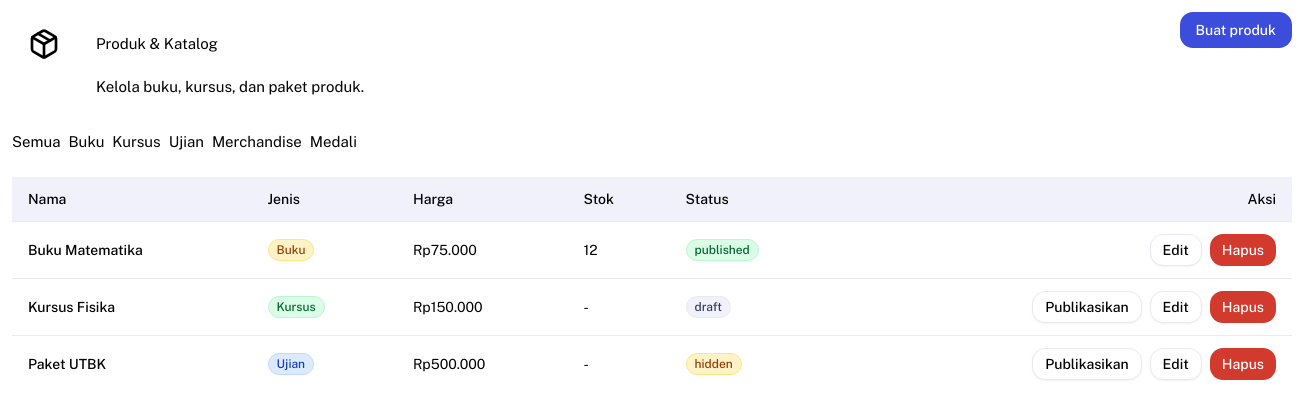
ProductsPage › filters rows by type chips
Expected: the text "Buku Matematika" is shown, [12,222,252,278]
Click the button "Kursus" at (137, 142), box [112,130,161,153]
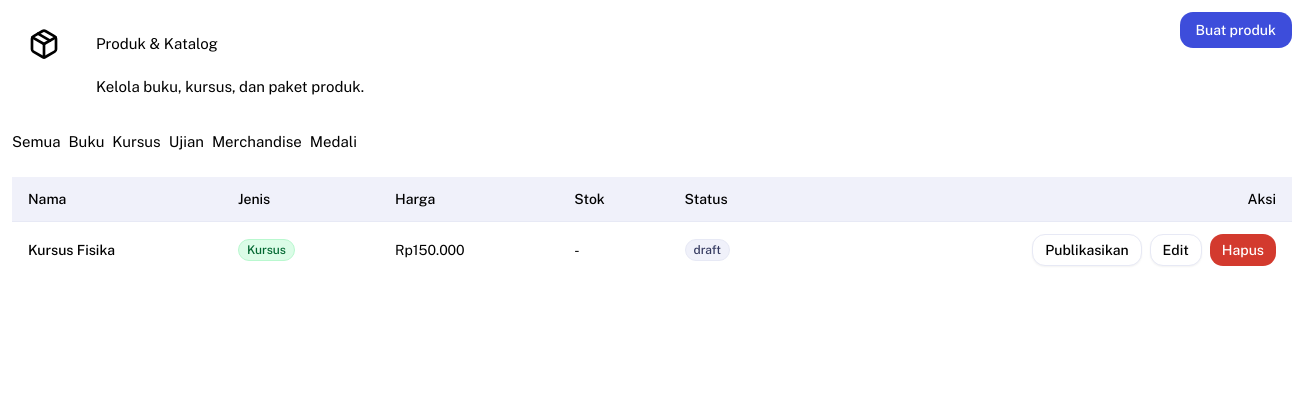
Expected: the text "Kursus Fisika" is shown, [12,222,222,278]
Result: the text "Buku Matematika" is gone
Result: the text "Paket UTBK" is gone
Click the button "Semua" at (36, 142), box [12,130,60,153]
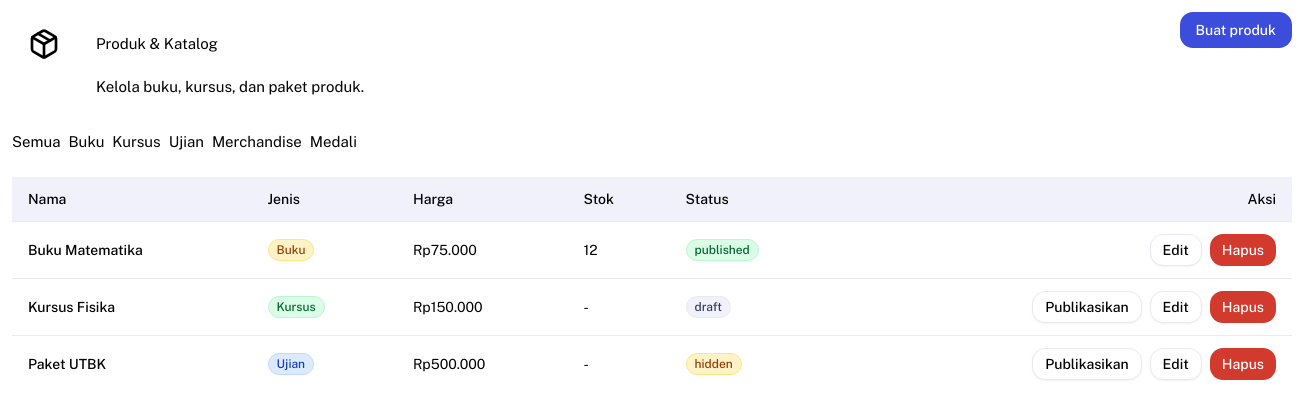
Expected: the text "Kursus Fisika" is shown, [12,278,252,336]
Result: the text "Buku Matematika" is shown at [12,222,252,278]
Result: the text "Paket UTBK" is shown at [12,336,252,392]
